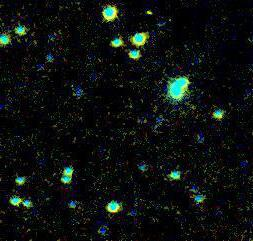star: (134, 0, 164, 27)
